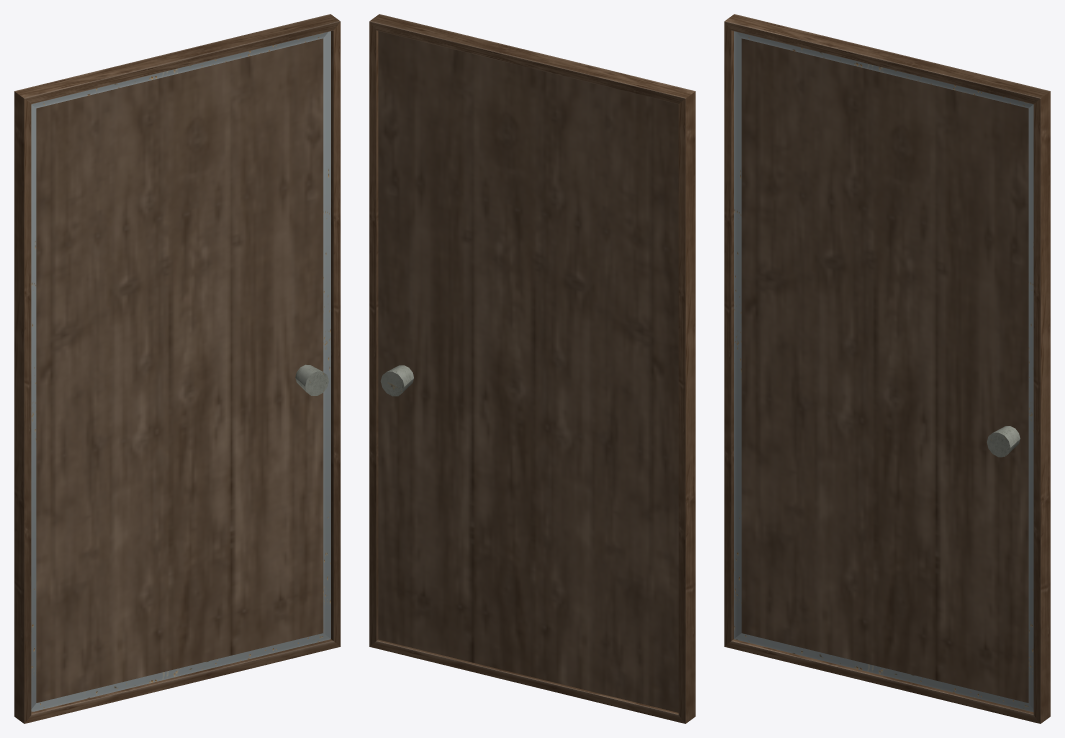
File: bil_door3w.fbx
3 renders of one model, left to right at view 1: azimuth 30°, elevation 25°; view 2: azimuth 150°, elevation 25°; view 3: azimuth 330°, elevation 25°, orthographic.
Parts seen in each view (by area): view 1: bil_door3w; view 2: bil_door3w; view 3: bil_door3w.
Part boxes in pixels (<box>): bil_door3w: <box>14,14,340,723</box>; bil_door3w: <box>369,14,695,723</box>; bil_door3w: <box>724,14,1050,723</box>.
Size of the model in its own units: 111 by 209 by 17.45.
